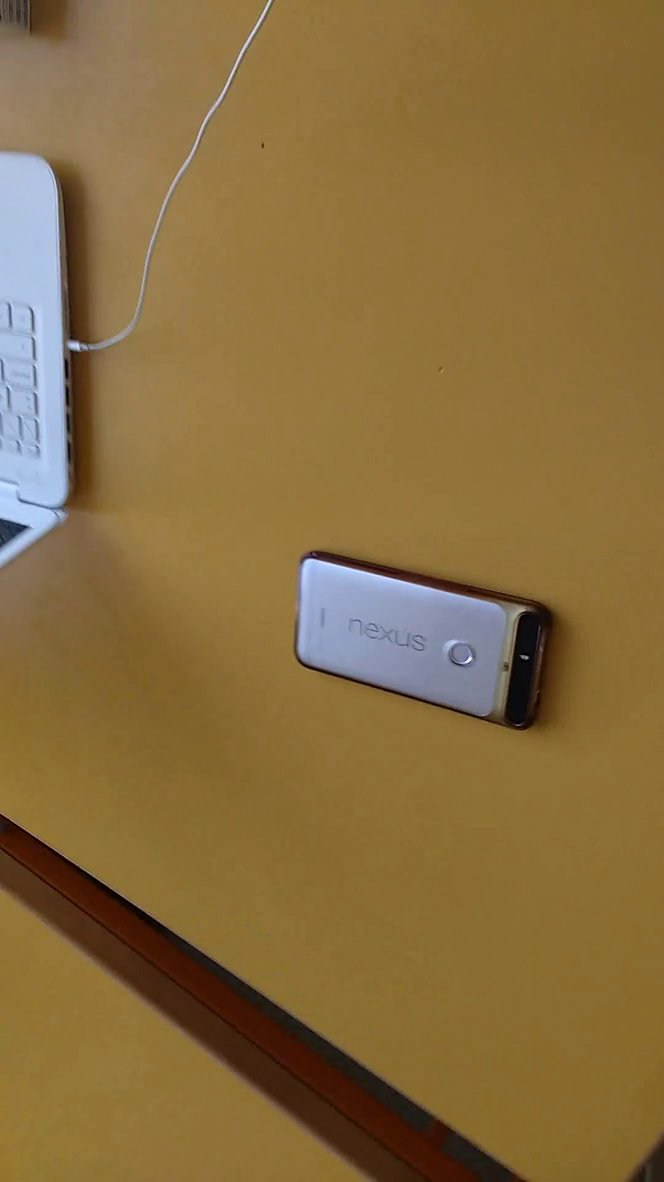phone: (276, 537, 576, 746)
